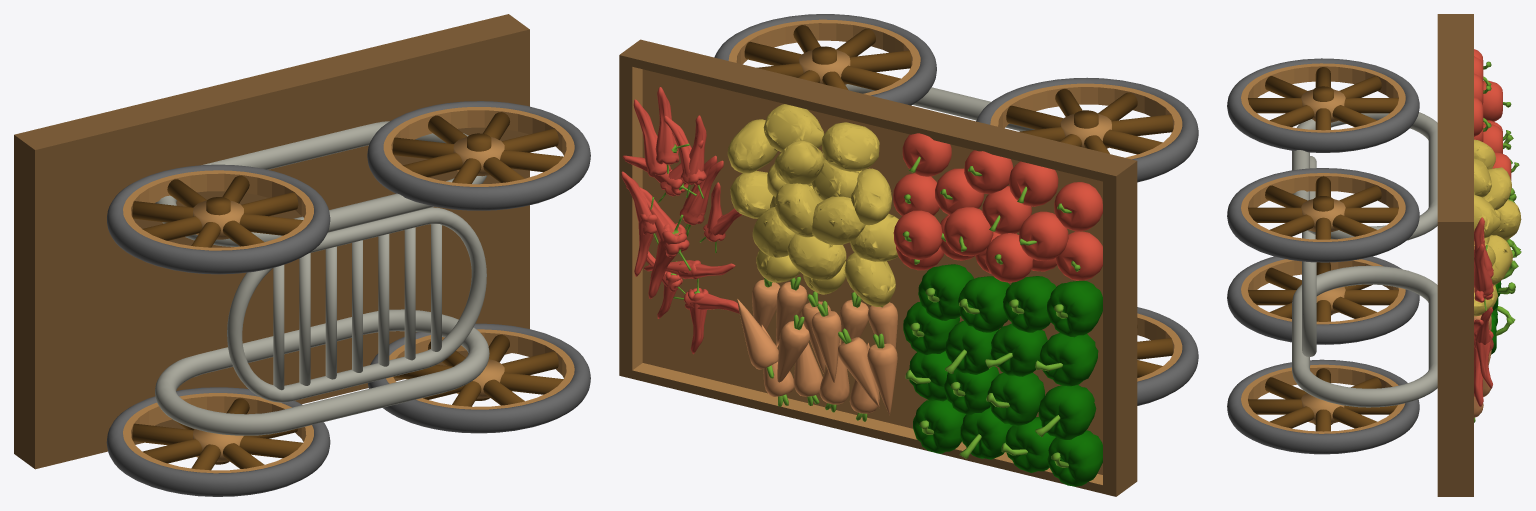
The model's file is Thela.fbx.
The picture shows the model from 3 angles, left to right: view 1: azimuth 30°, elevation 25°; view 2: azimuth 150°, elevation 25°; view 3: azimuth 270°, elevation 25°; orthographic projection. The views are drawn at different scales.
Parts seen in each view (by area): view 1: Circle.001; view 2: Circle.001; view 3: Circle.001.
Part boxes in pixels (box(x1,y1,x2,y2)): Circle.001: box(14, 14, 590, 496); Circle.001: box(619, 14, 1198, 496); Circle.001: box(1227, 14, 1521, 496).
Size of the model in its own units: 227 by 140 by 136.
